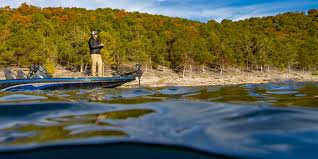boat: (1, 63, 142, 95)
